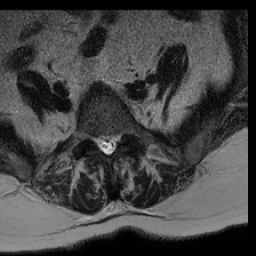CCS_normal: (104, 126, 110, 163)
LFS_normal: (117, 122, 125, 148)
LLS_normal: (110, 126, 117, 158)
RFS_stenosis: (88, 123, 96, 148)
RLS_normal: (96, 127, 104, 156)
